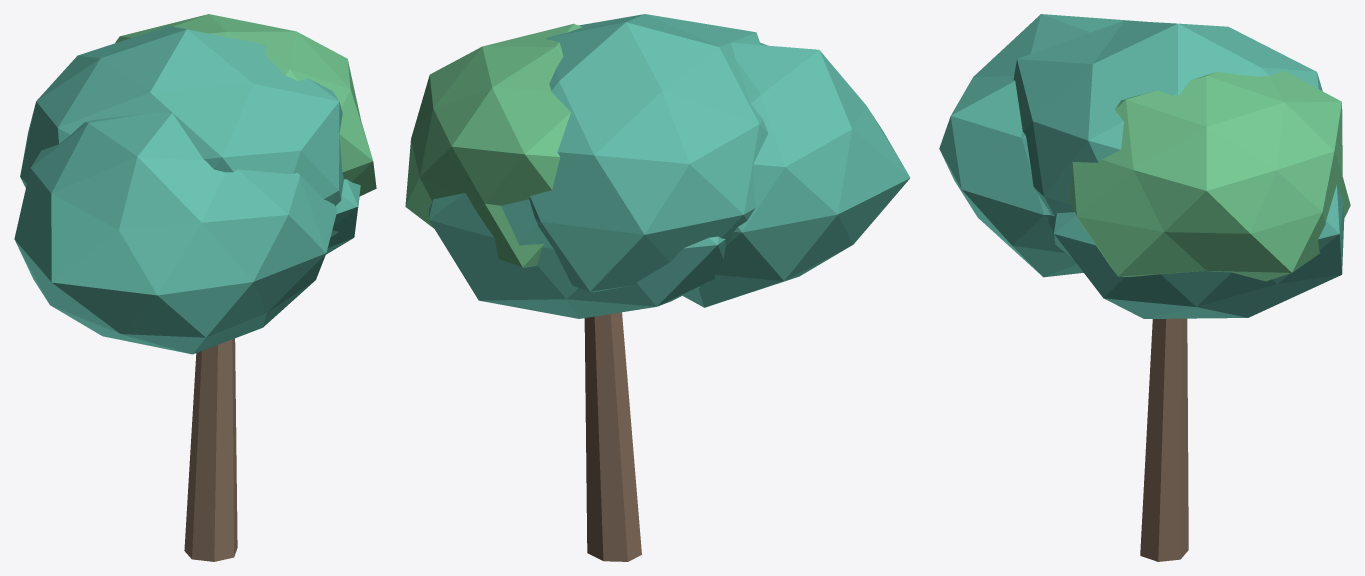
Rendered from Tree_Med_B.glb.
The picture shows the model from 3 angles, left to right: view 1: azimuth 30°, elevation 25°; view 2: azimuth 150°, elevation 25°; view 3: azimuth 270°, elevation 25°; orthographic projection. The views are drawn at different scales.
Visible parts, largest first — view 1: Tree_Med_B; view 2: Tree_Med_B; view 3: Tree_Med_B.
Part boxes in pixels (x1=…): Tree_Med_B: x1=14, y1=14, x2=376, y2=561; Tree_Med_B: x1=405, y1=14, x2=910, y2=561; Tree_Med_B: x1=939, y1=14, x2=1350, y2=561.
Size of the model in its own units: 5.15 by 6.75 by 4.85.
